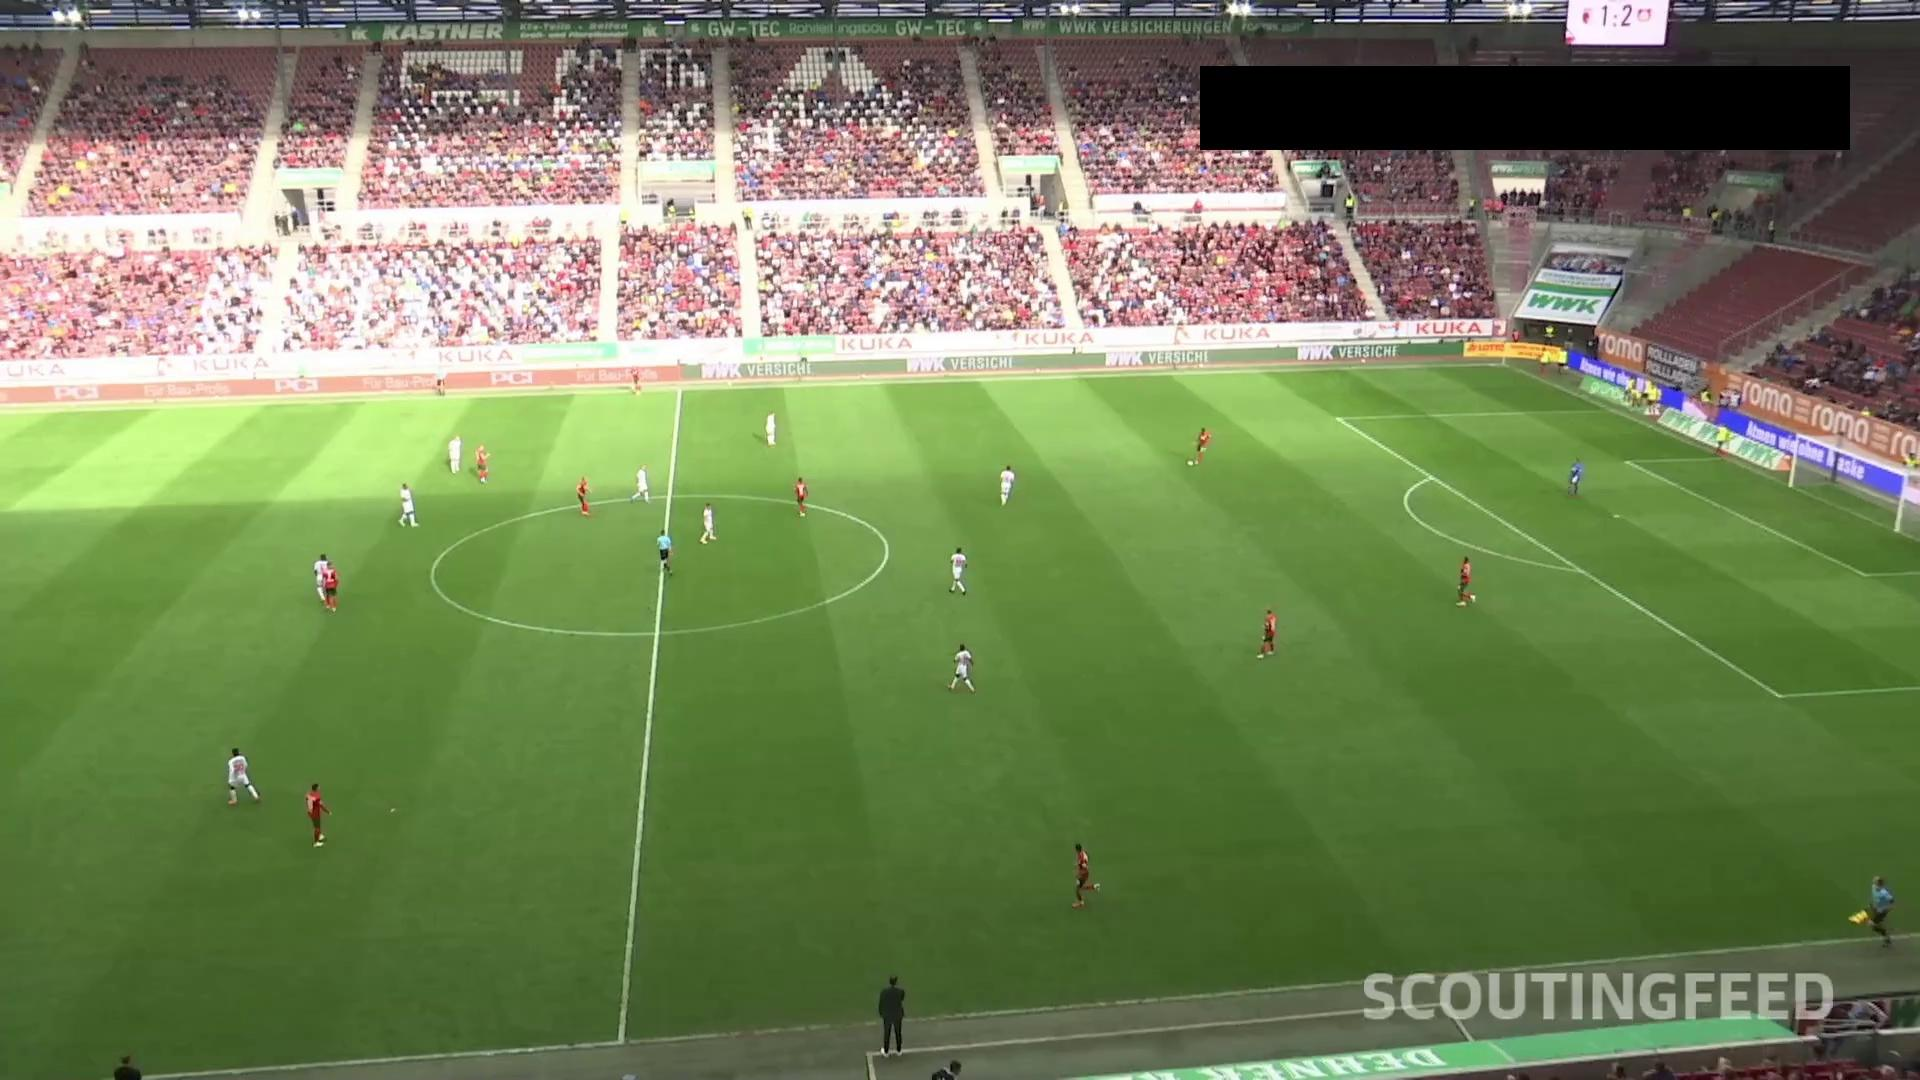Location-of-ball: (1184, 450, 1201, 472)
